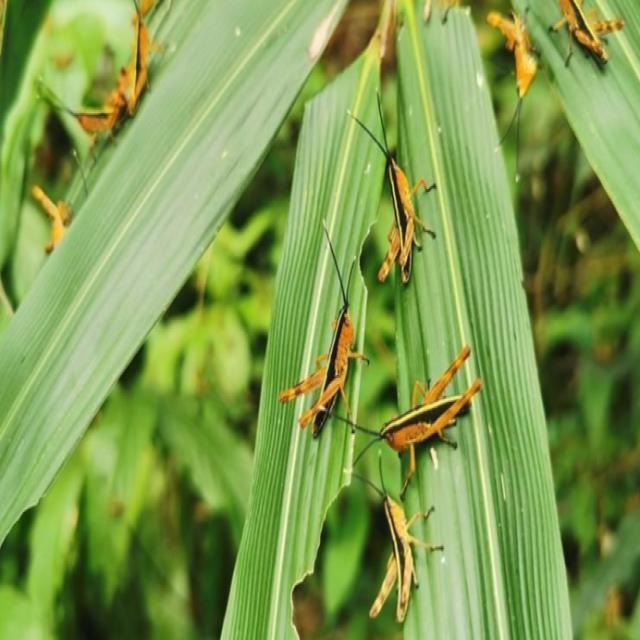ZhaMeng: (61, 20, 169, 171), (352, 448, 442, 622), (364, 107, 442, 296), (296, 231, 360, 431), (368, 356, 479, 467), (486, 2, 544, 130), (556, 2, 618, 104)
